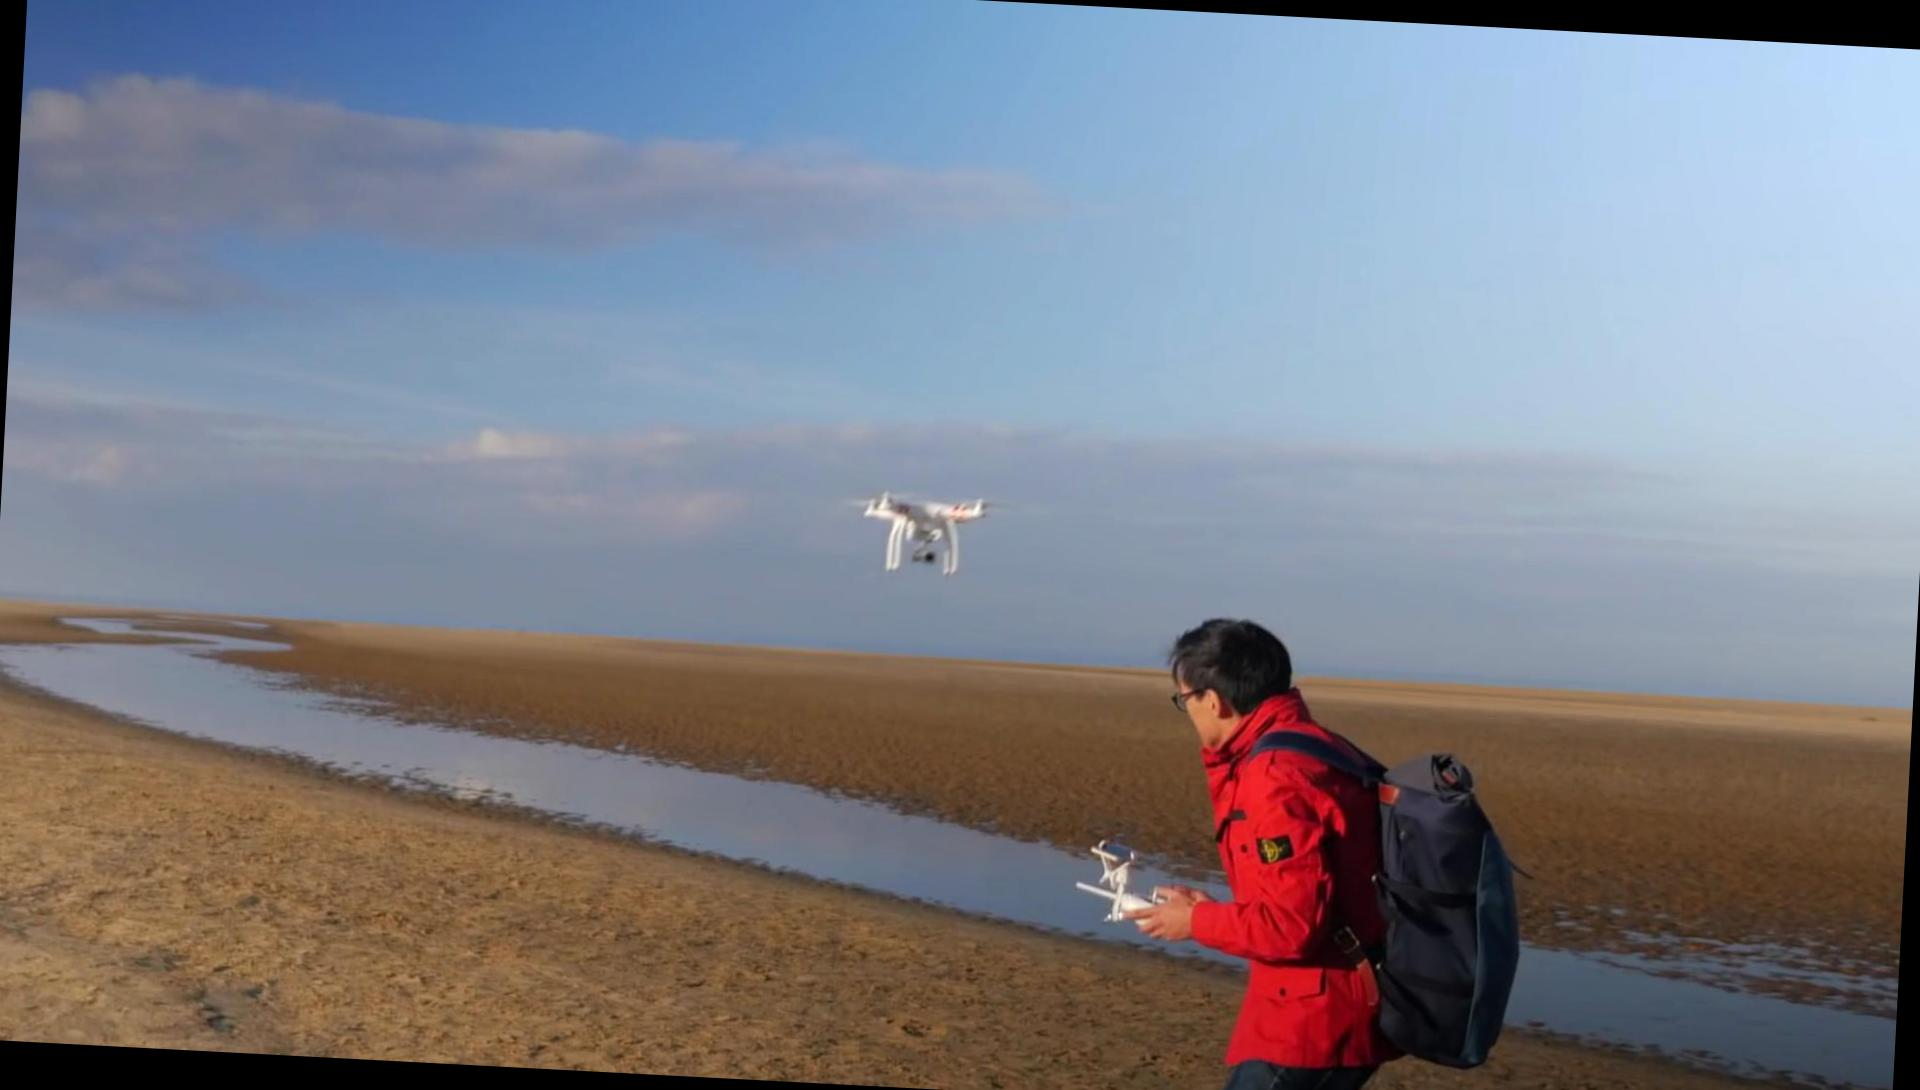drone: (857, 482, 998, 583)
